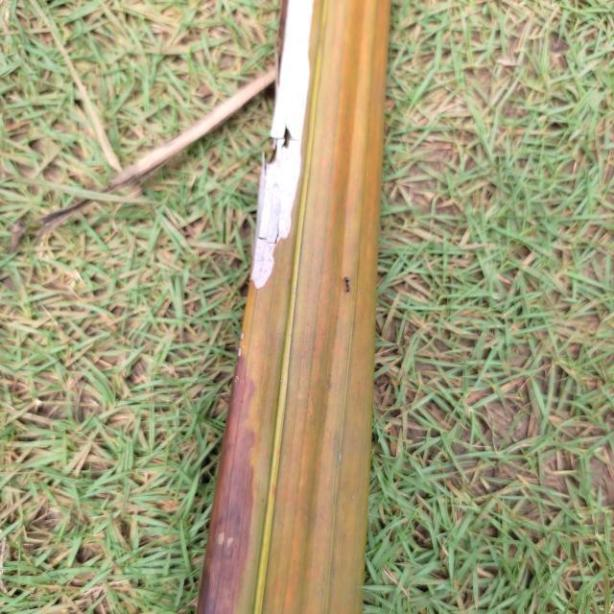Megnesium: (195, 0, 392, 614)
